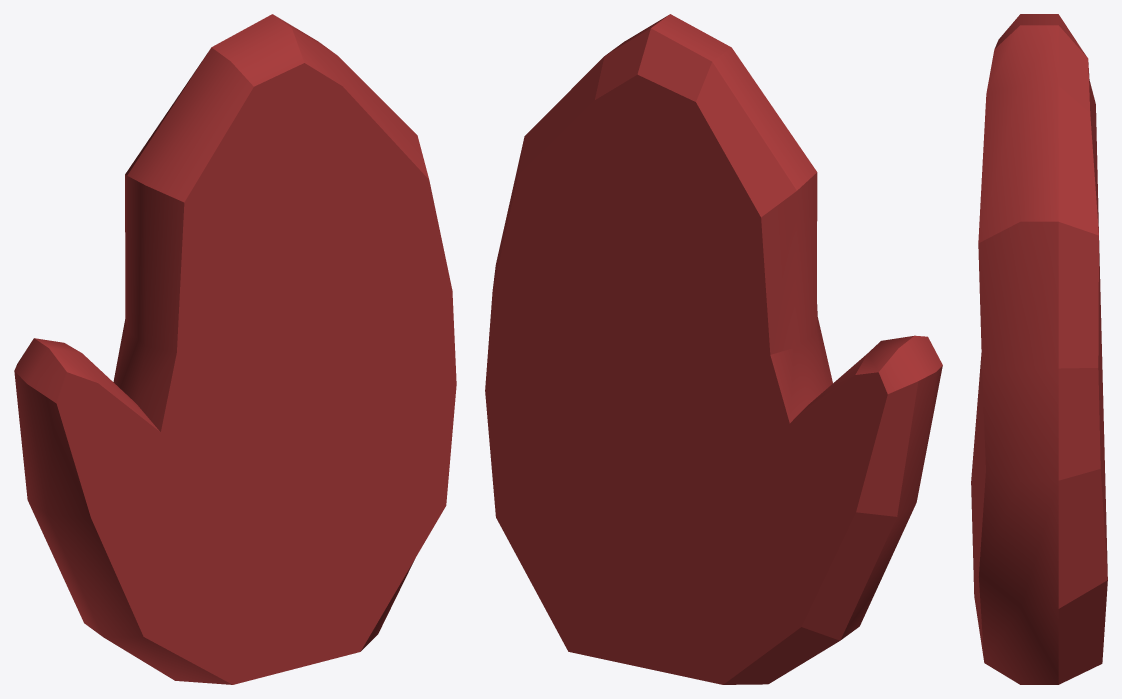
File: left_mitten.fbx
The picture shows the model from 3 angles, left to right: view 1: azimuth 30°, elevation 25°; view 2: azimuth 150°, elevation 25°; view 3: azimuth 270°, elevation 25°; orthographic projection.
Visible parts, largest first — view 1: polySurface4; view 2: polySurface4; view 3: polySurface4.
Part boxes in pixels (left/top/right/bottom): polySurface4: left=14, top=14, right=456, bottom=684; polySurface4: left=485, top=14, right=942, bottom=684; polySurface4: left=971, top=14, right=1107, bottom=684.
Bounding box in the file's own units: 4.25 × 5.98 × 1.2.
